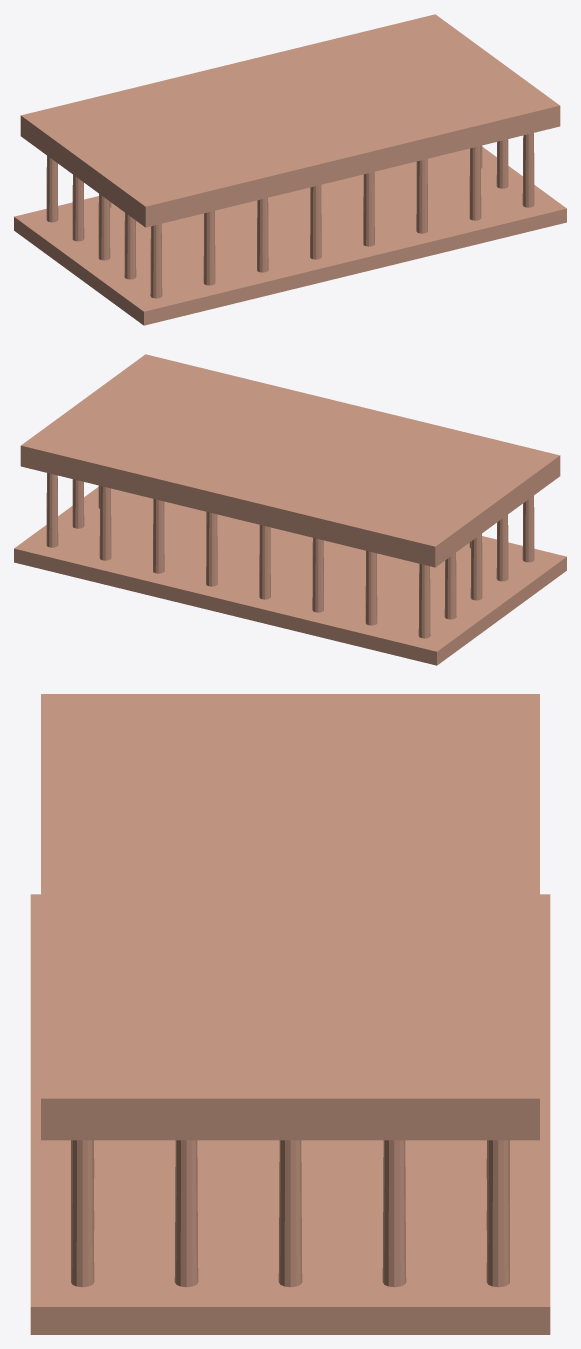
File: place-persepolis.glb
3 views of the same model, one above another, from view 1: azimuth 30°, elevation 25°; view 2: azimuth 150°, elevation 25°; view 3: azimuth 270°, elevation 25° (orthographic). The views are drawn at different scales.
Visible parts, largest first — view 1: place-persepolis; view 2: place-persepolis; view 3: place-persepolis.
Part boxes in pixels (bbox=[...]): place-persepolis: bbox=[14, 14, 566, 325]; place-persepolis: bbox=[14, 354, 566, 665]; place-persepolis: bbox=[30, 694, 550, 1334].
Size of the model in its own units: 109 by 28.57 by 58.
